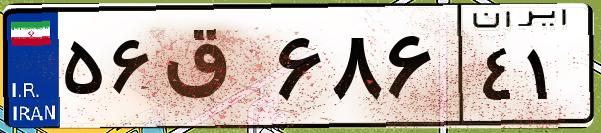1: (525, 38, 570, 115)
4: (475, 38, 525, 113)
5: (57, 26, 110, 100)
6: (270, 28, 330, 110), (385, 28, 445, 110), (110, 28, 158, 98)
8: (330, 28, 385, 110)
ق: (158, 20, 270, 120)
